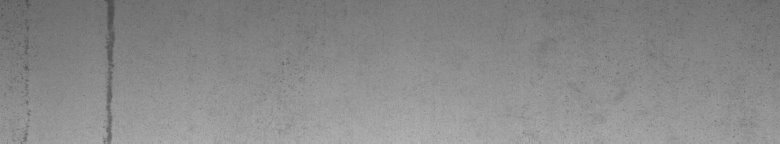hd: (101, 4, 120, 136)
